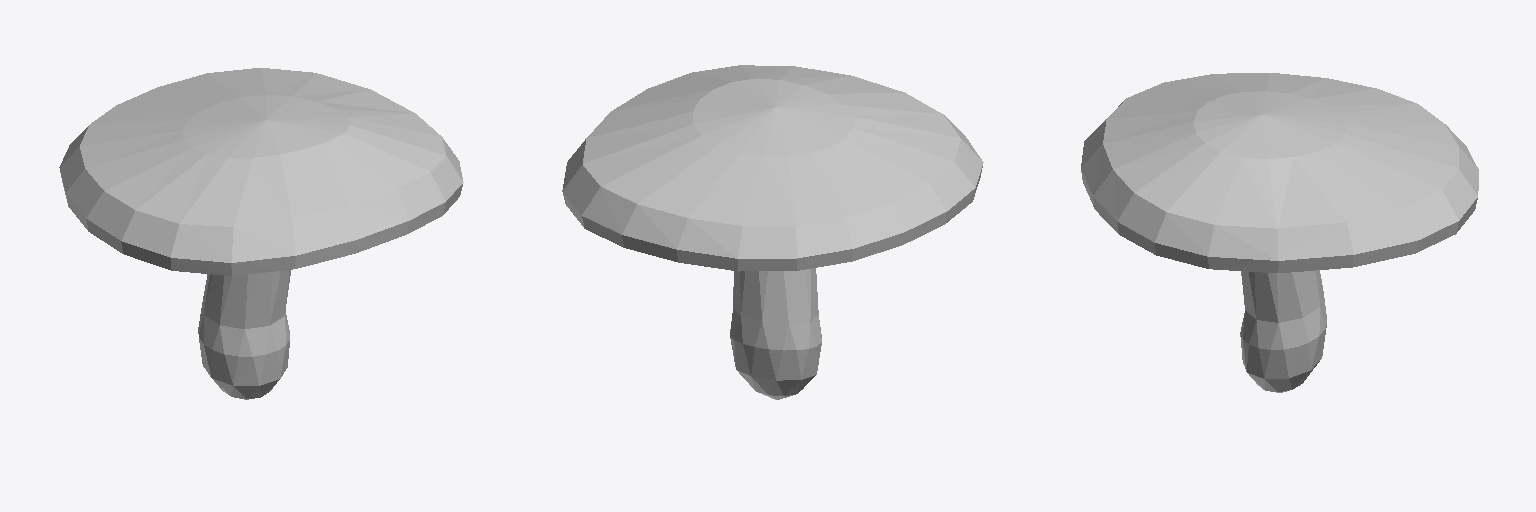
File: mush1_mini.obj
The picture shows the model from 3 angles: view 1: azimuth 30°, elevation 25°; view 2: azimuth 150°, elevation 25°; view 3: azimuth 270°, elevation 25°; orthographic projection.
Visible parts, largest first — view 1: Mushroom_1; view 2: Mushroom_1; view 3: Mushroom_1.
Boxes of the visible parts, x1=… form: Mushroom_1: x1=59, y1=68, x2=463, y2=399; Mushroom_1: x1=562, y1=65, x2=983, y2=399; Mushroom_1: x1=1081, y1=73, x2=1478, y2=392.
Size of the model in its own units: 0.1142 by 0.0888 by 0.1129.